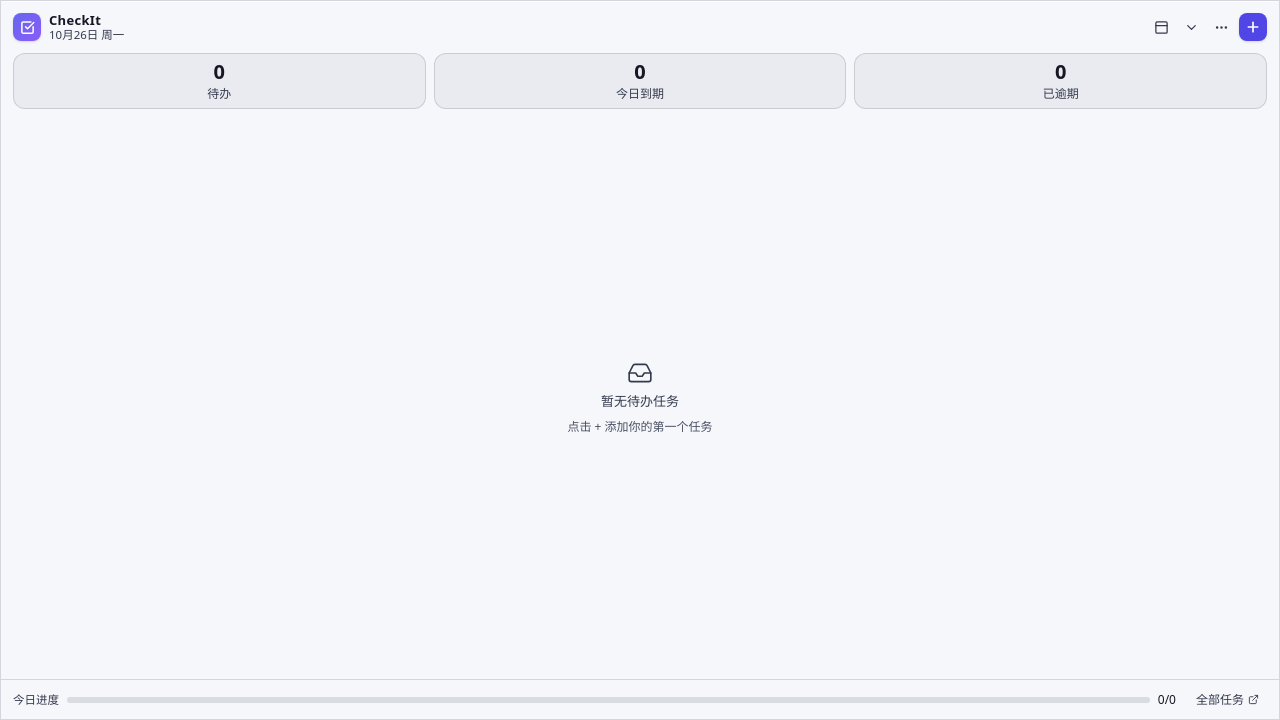
Test: WidgetApp 窗口模式与快速添加 › 原生先发 expanded 事件再返回命令结果时，快速添加仍能打开
The width and height of the screenshot is (1280, 720).
Step 1. Click the button titled "添加任务" → (1253, 27), box [1239,13,1267,41]
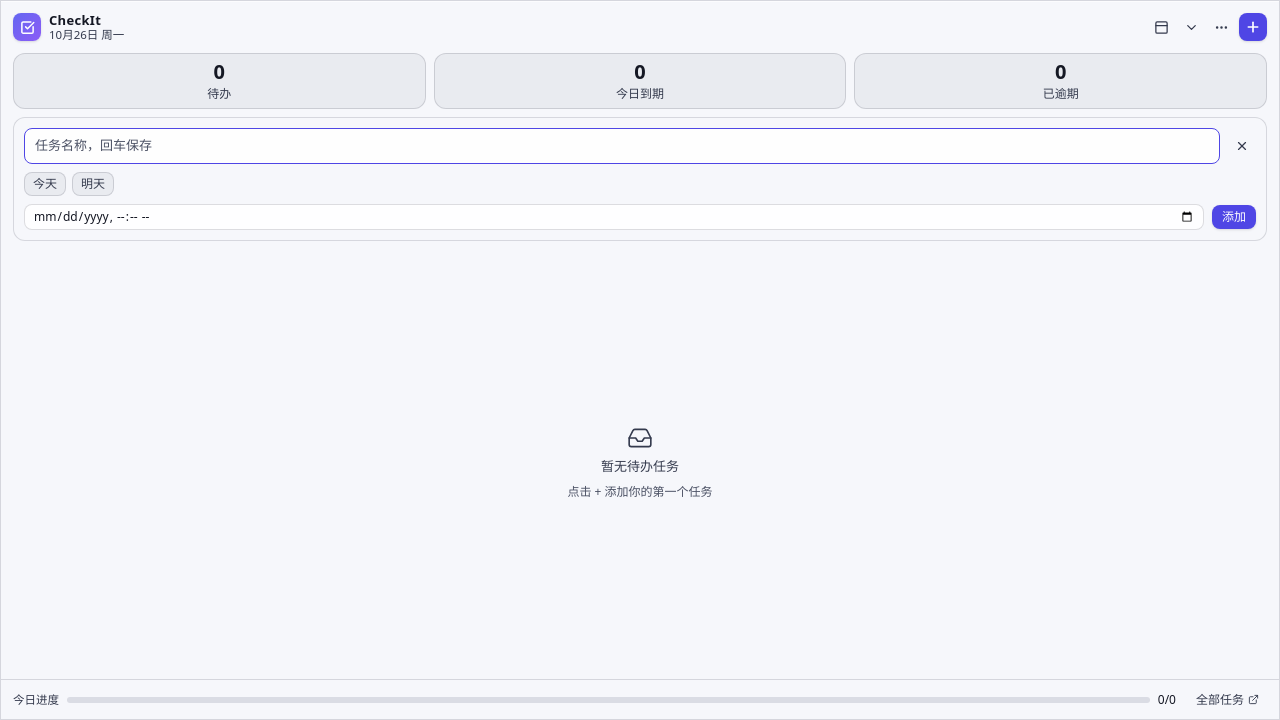
Expected: the field with placeholder "任务名称，回车保存" is shown, [24,128,1220,164]
